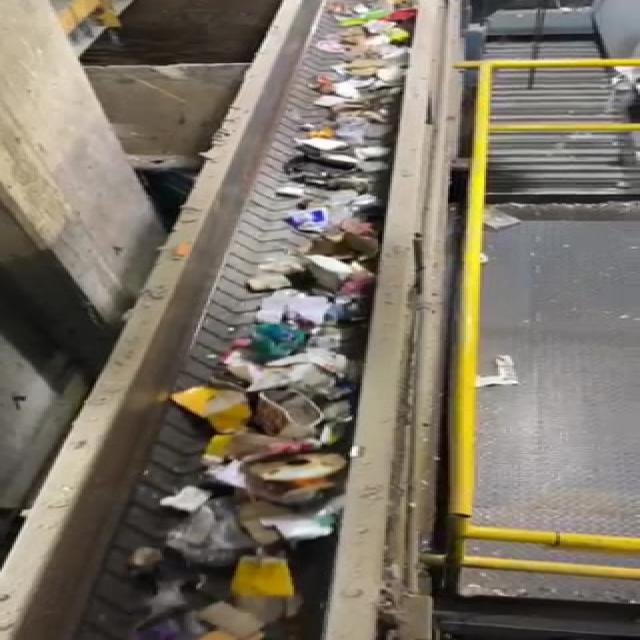paper: (176, 386, 263, 444), (229, 554, 306, 608)
